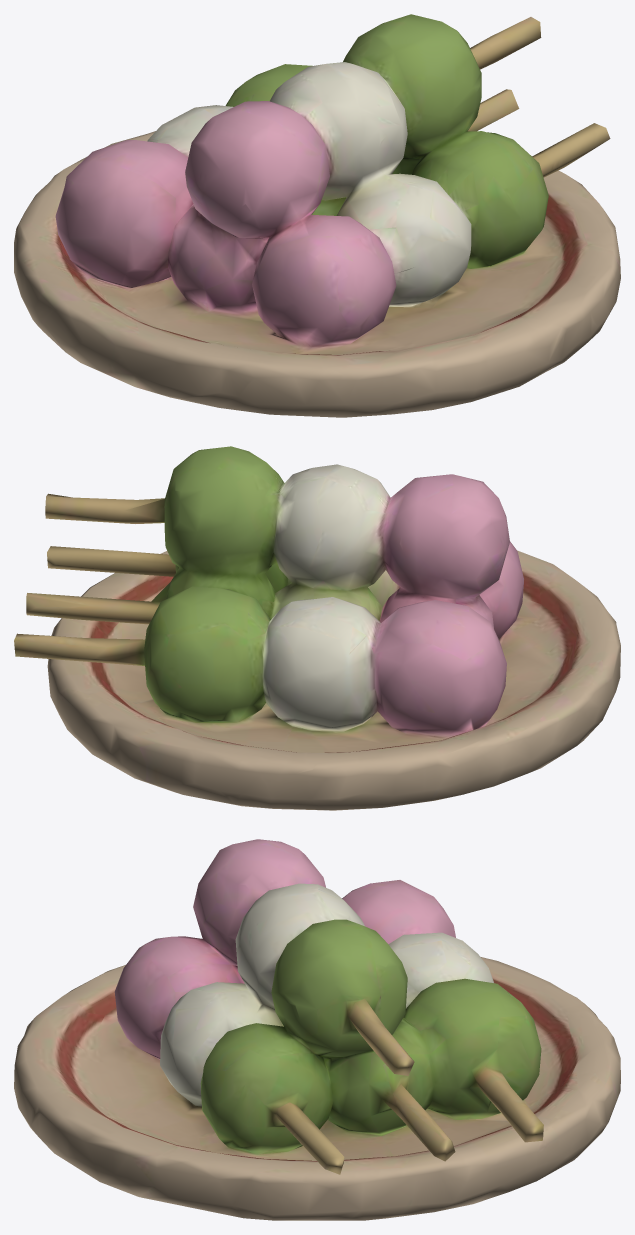
Rendered from JP_사물_s2_food_tier2_dango.glb.
The picture shows the model from 3 angles, top to bottom: view 1: azimuth 30°, elevation 25°; view 2: azimuth 150°, elevation 25°; view 3: azimuth 270°, elevation 25°; orthographic projection. The views are drawn at different scales.
Visible parts, largest first — view 1: tripo_node_86c1a29e-9735-43be-853f-7f9fb9491f5a; view 2: tripo_node_86c1a29e-9735-43be-853f-7f9fb9491f5a; view 3: tripo_node_86c1a29e-9735-43be-853f-7f9fb9491f5a.
Part boxes in pixels (x1=…): tripo_node_86c1a29e-9735-43be-853f-7f9fb9491f5a: x1=14, y1=14, x2=620, y2=417; tripo_node_86c1a29e-9735-43be-853f-7f9fb9491f5a: x1=14, y1=446, x2=620, y2=810; tripo_node_86c1a29e-9735-43be-853f-7f9fb9491f5a: x1=14, y1=839, x2=620, y2=1220.
Size of the model in its own units: 1 by 0.4208 by 0.9788.
Materials: 1 (1 with a texture image).
